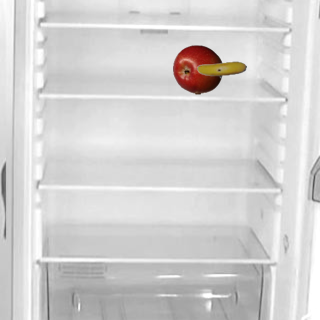Apple Braeburn: (172, 44, 222, 94)
Banana: (196, 44, 246, 94)
